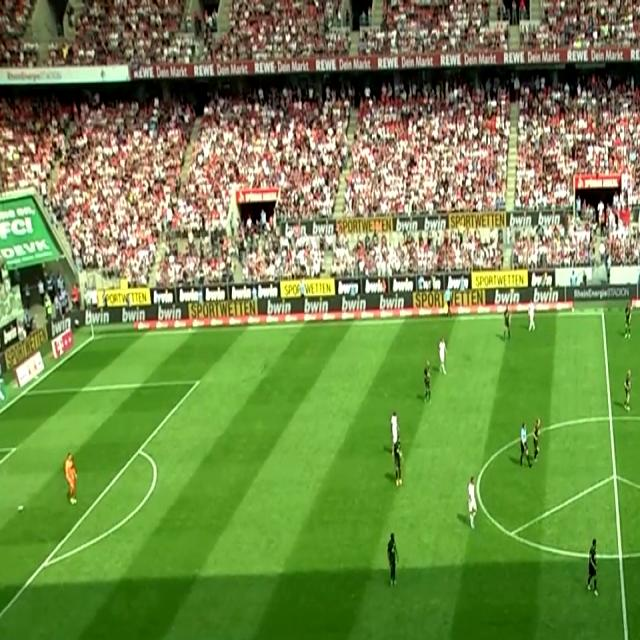goalkeeper: (60, 445, 81, 519)
referee: (517, 414, 531, 469)
soccer-player: (381, 522, 402, 593), (586, 526, 602, 600), (463, 471, 481, 530), (620, 296, 635, 348), (387, 398, 400, 454), (389, 438, 403, 483), (532, 417, 546, 461), (436, 336, 450, 380), (420, 359, 433, 405), (622, 366, 634, 412), (525, 297, 539, 336), (502, 304, 512, 341)
